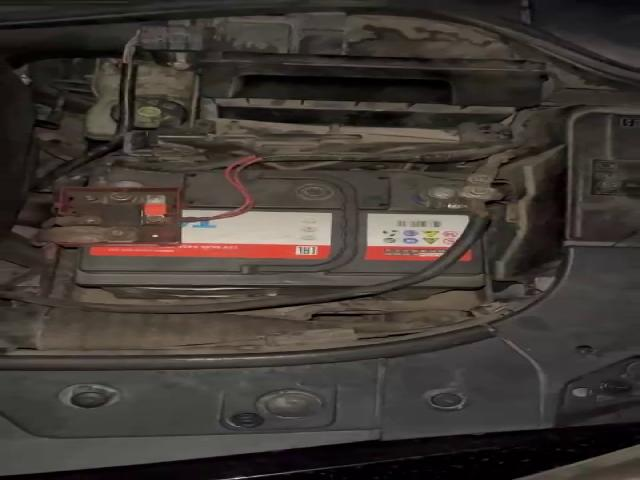accumulator: (38, 167, 483, 300)
fuse_box: (572, 112, 640, 245)
